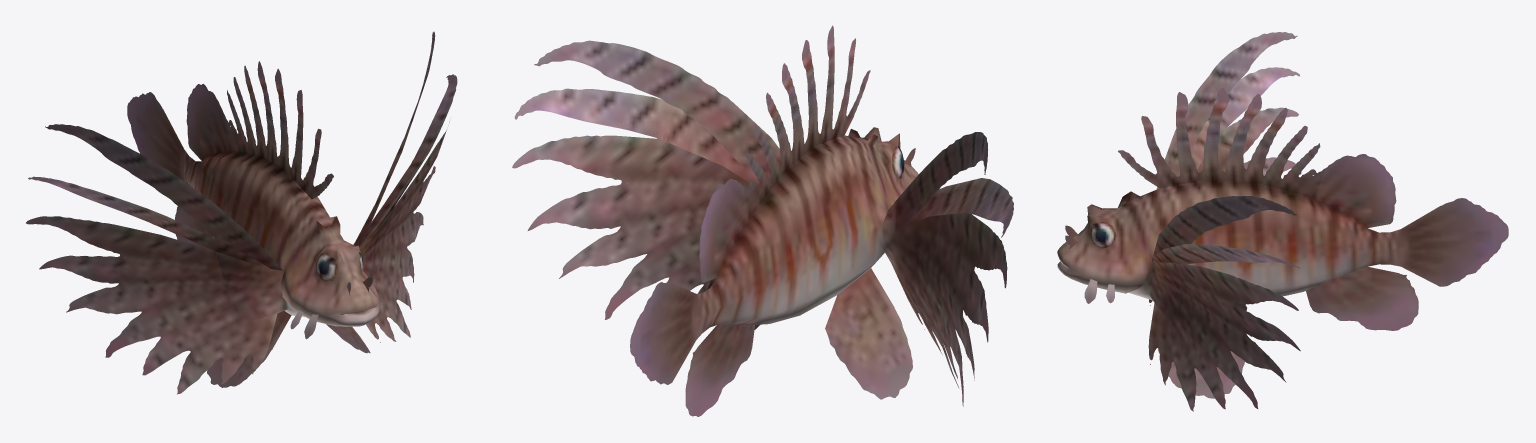
Rendered from zebra-turkeyfish.glb.
3 views of the same model, side by side, from view 1: azimuth 30°, elevation 25°; view 2: azimuth 150°, elevation 25°; view 3: azimuth 270°, elevation 25° (orthographic). The views are drawn at different scales.
Bounding box in the file's own units: 8.49 × 5.88 × 8.07.
1 material, 1 textured.
